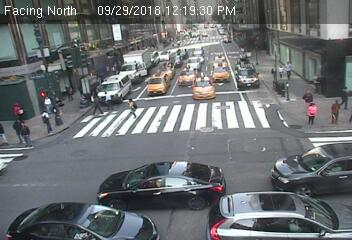car: (205, 190, 352, 239), (5, 198, 161, 239), (99, 157, 224, 208), (272, 142, 352, 194), (118, 50, 153, 83), (97, 73, 132, 99), (191, 73, 216, 102), (147, 70, 170, 94), (236, 65, 259, 86), (212, 60, 229, 80), (179, 65, 194, 82), (186, 56, 202, 70), (191, 46, 205, 59), (213, 55, 228, 67), (149, 50, 161, 62), (221, 35, 233, 44), (161, 51, 167, 58)
